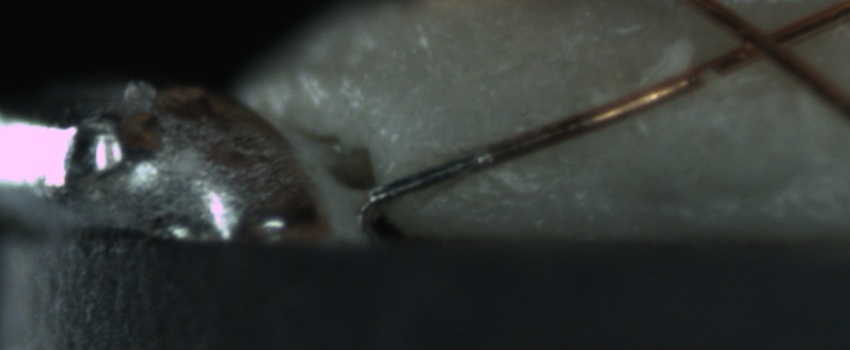CL: (716, 10, 810, 74)
TS: (366, 151, 492, 205)
